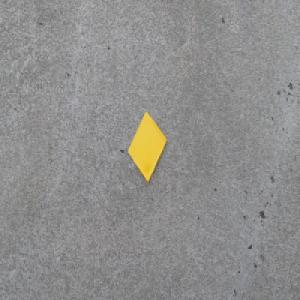PlasticPart: (127, 110, 167, 183)
